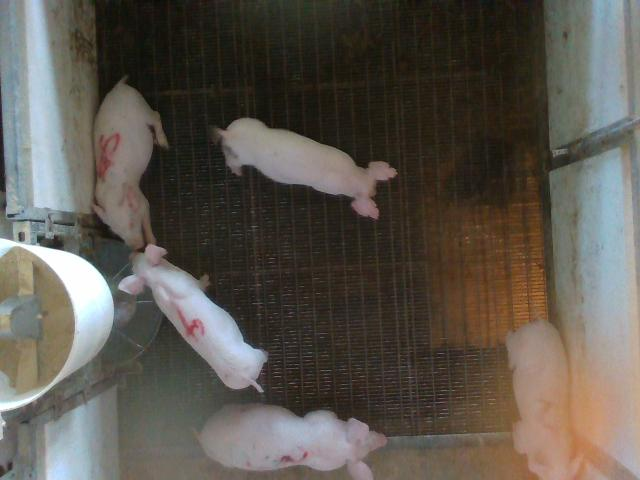pig-2: (506, 319, 635, 479)
pig-3: (198, 404, 386, 479)
pig-4: (119, 244, 268, 392)
pig-5: (94, 76, 169, 251)
